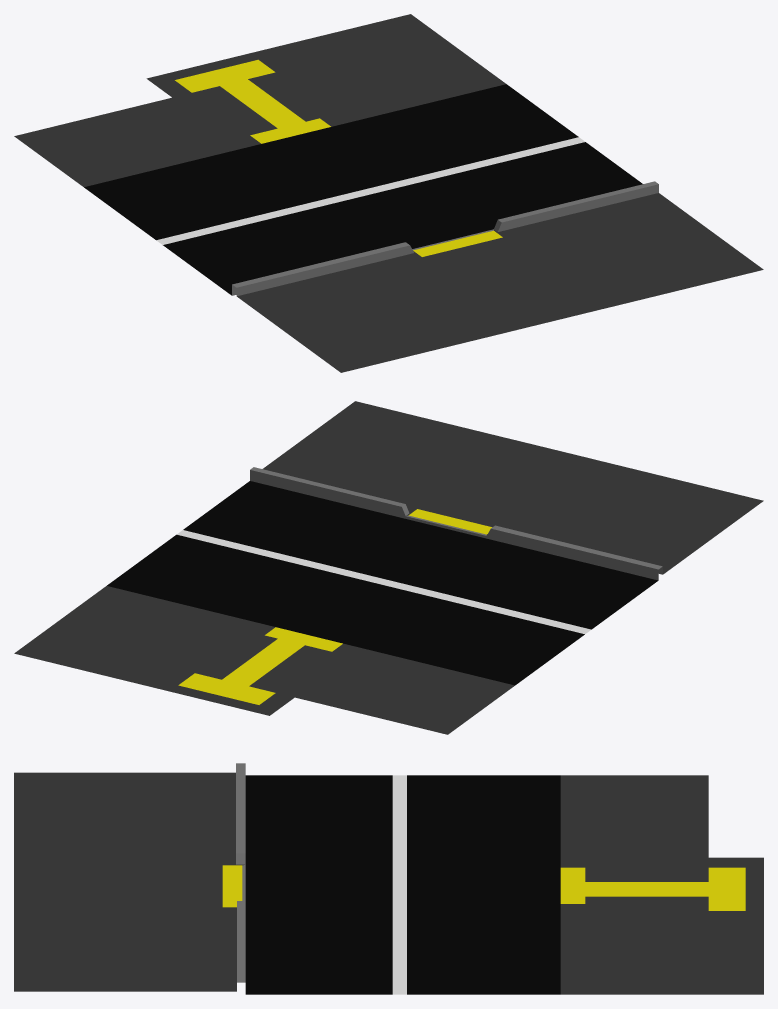
The model's file is Environment.fbx.
3 renders of one model, top to bottom at view 1: azimuth 30°, elevation 25°; view 2: azimuth 150°, elevation 25°; view 3: azimuth 270°, elevation 25°, orthographic. The views are drawn at different scales.
Parts seen in each view (by area): view 1: Road; view 2: Road; view 3: Road.
Boxes of the visible parts, box(x1,y1,x2,y2) form: Road: box(14, 14, 763, 372); Road: box(14, 401, 763, 734); Road: box(14, 763, 763, 994).
Size of the model in its own units: 3396 by 87.64 by 4912.
